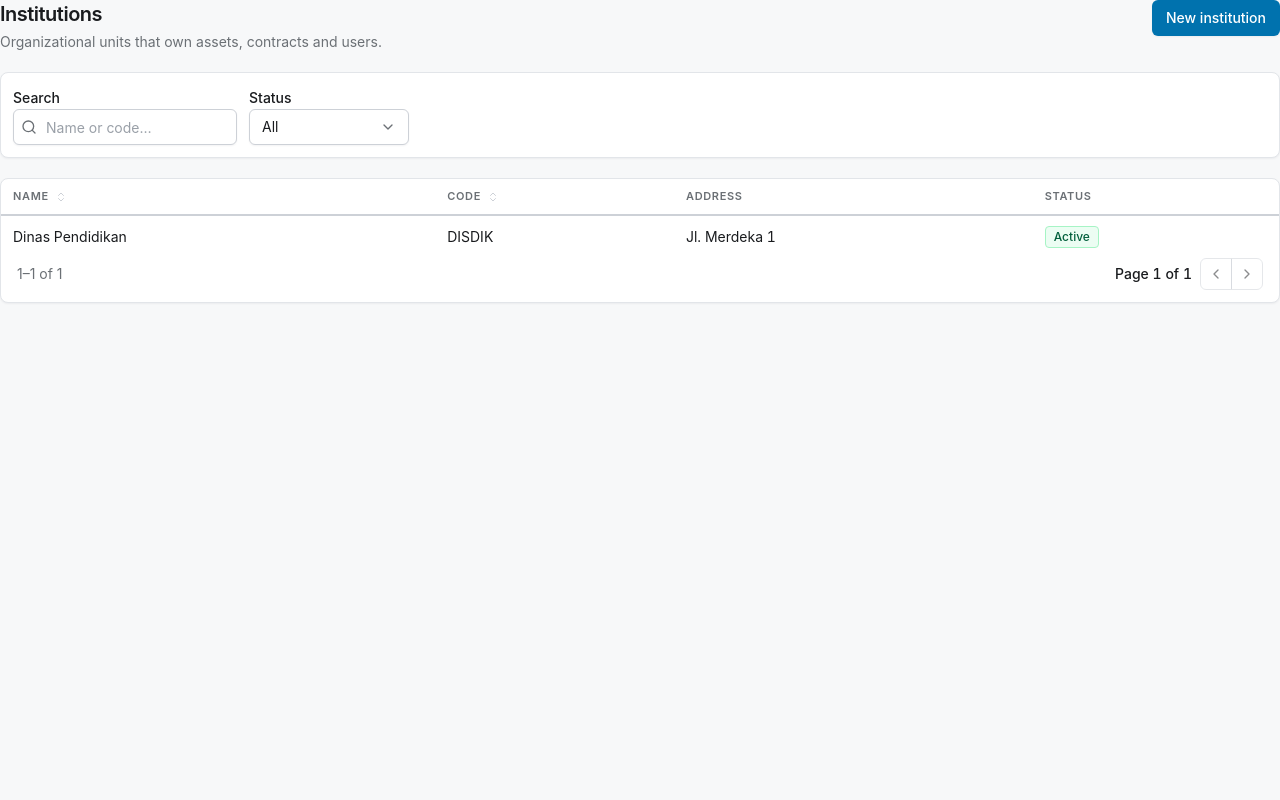
InstitutionsPage › maps a server VALIDATION_ERROR onto the offending field
Expected: the link "Dinas Pendidikan" is shown, [13, 228, 127, 245]
Click the button "New institution". click: (1216, 18)
box: [1152, 0, 1279, 36]
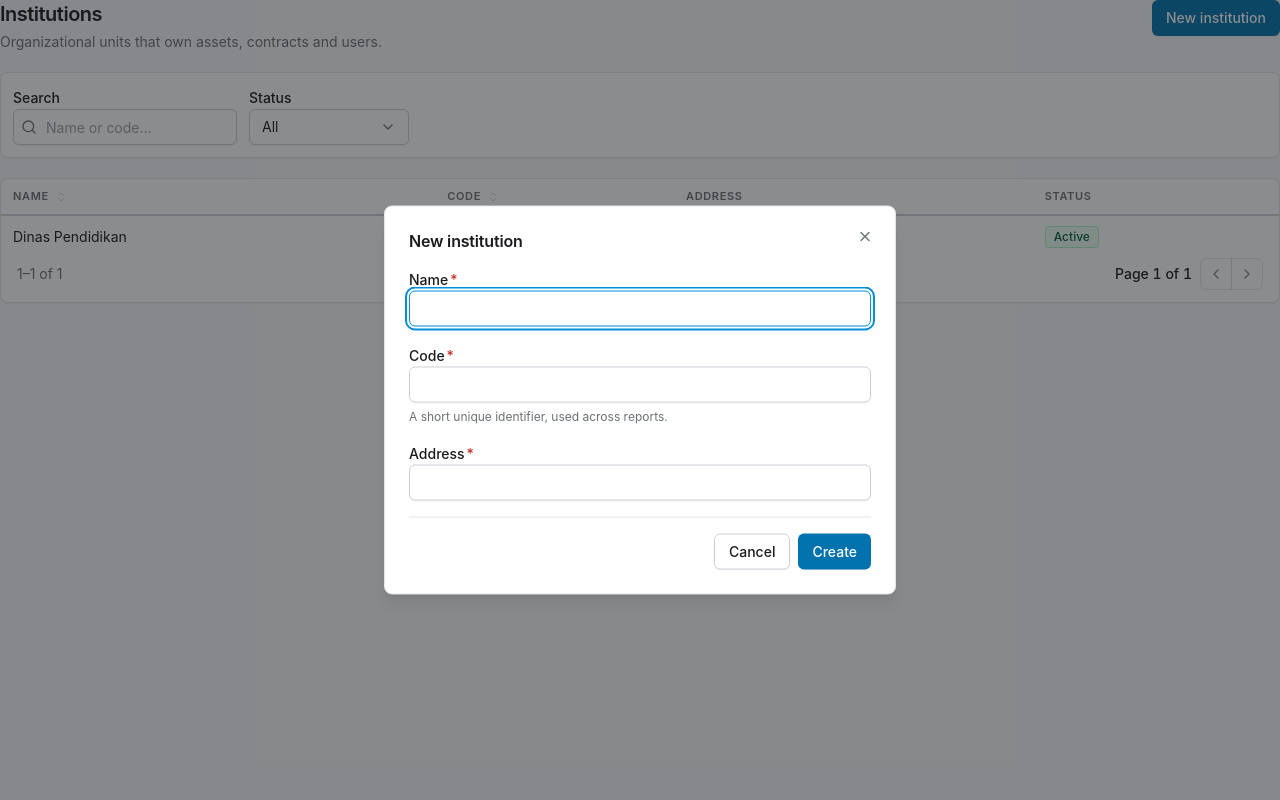
Type "Baru" into the field labelled "Name*". click: (640, 308)
box: [409, 290, 871, 326]
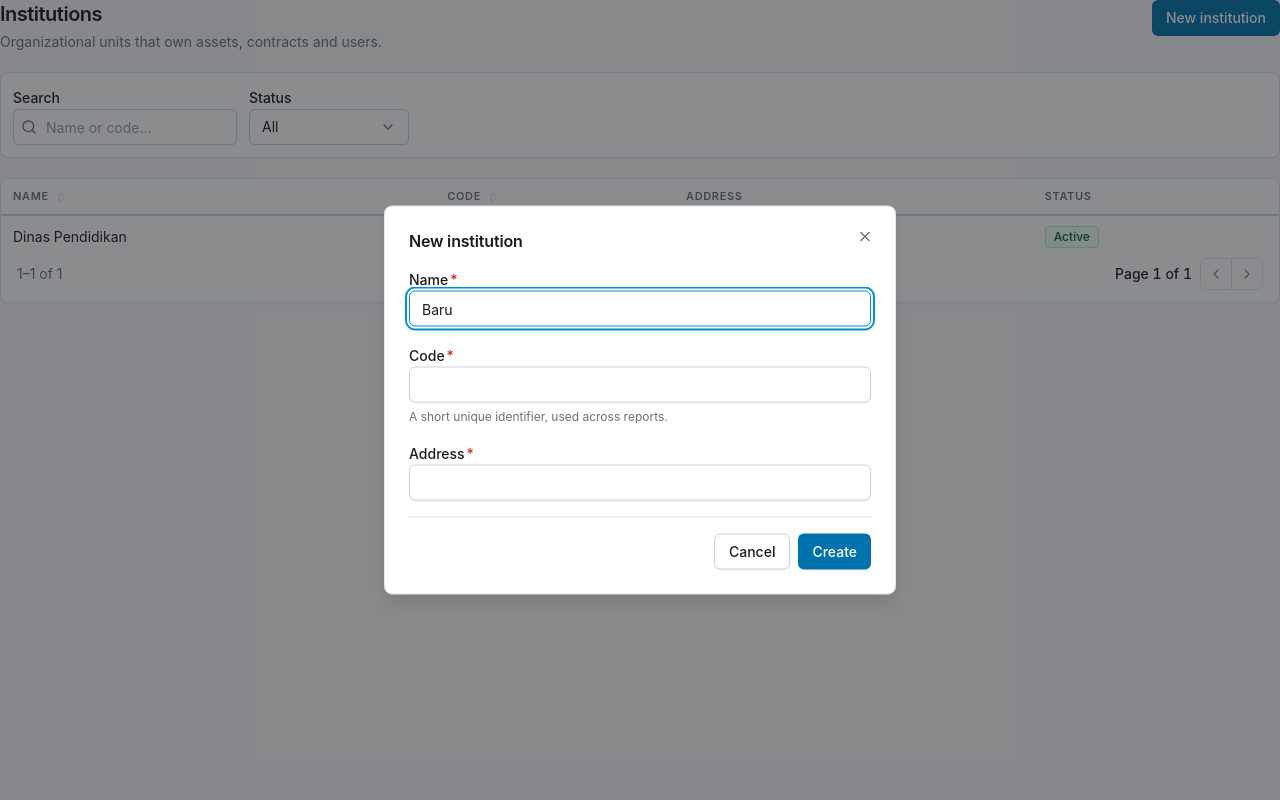
Type "DUP" into the field labelled "Code*". click: (640, 384)
box: [409, 366, 871, 402]
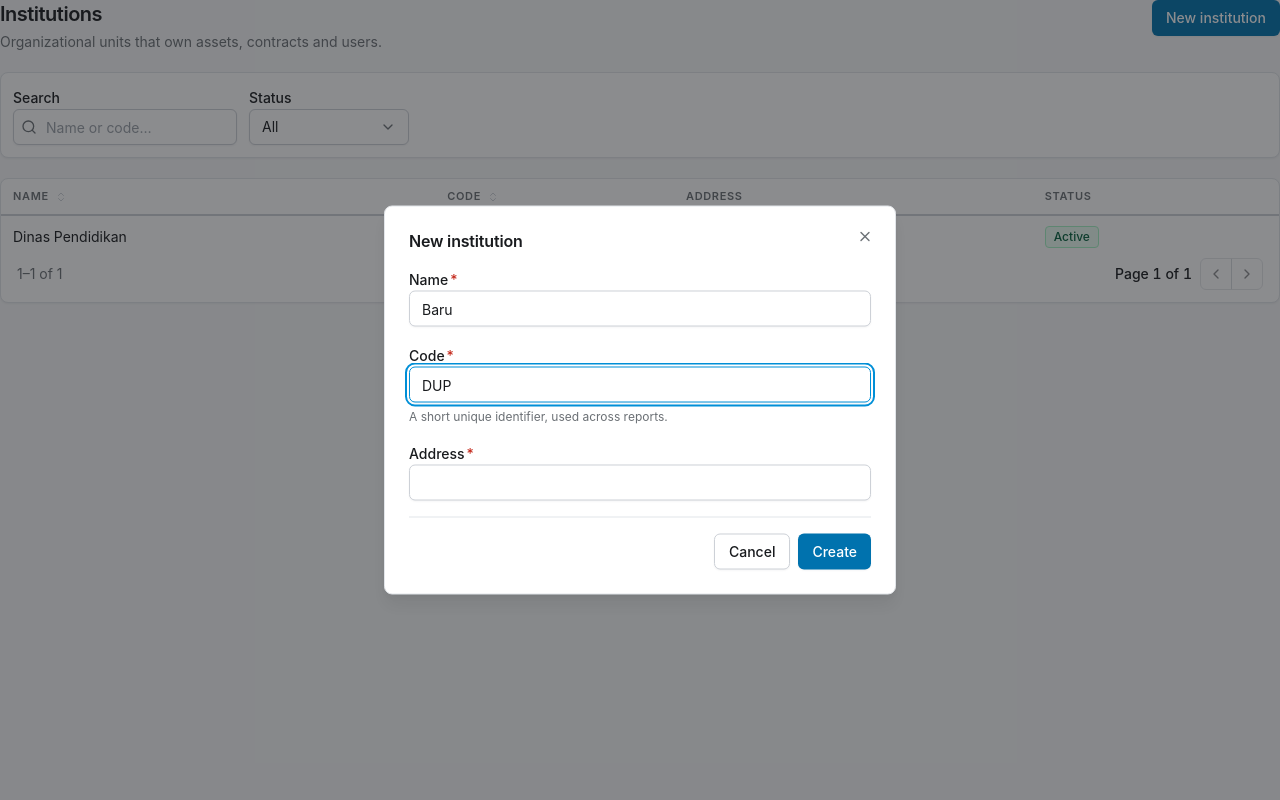
Type "Jl. Baru" into the field labelled "Address*". click: (640, 482)
box: [409, 464, 871, 500]
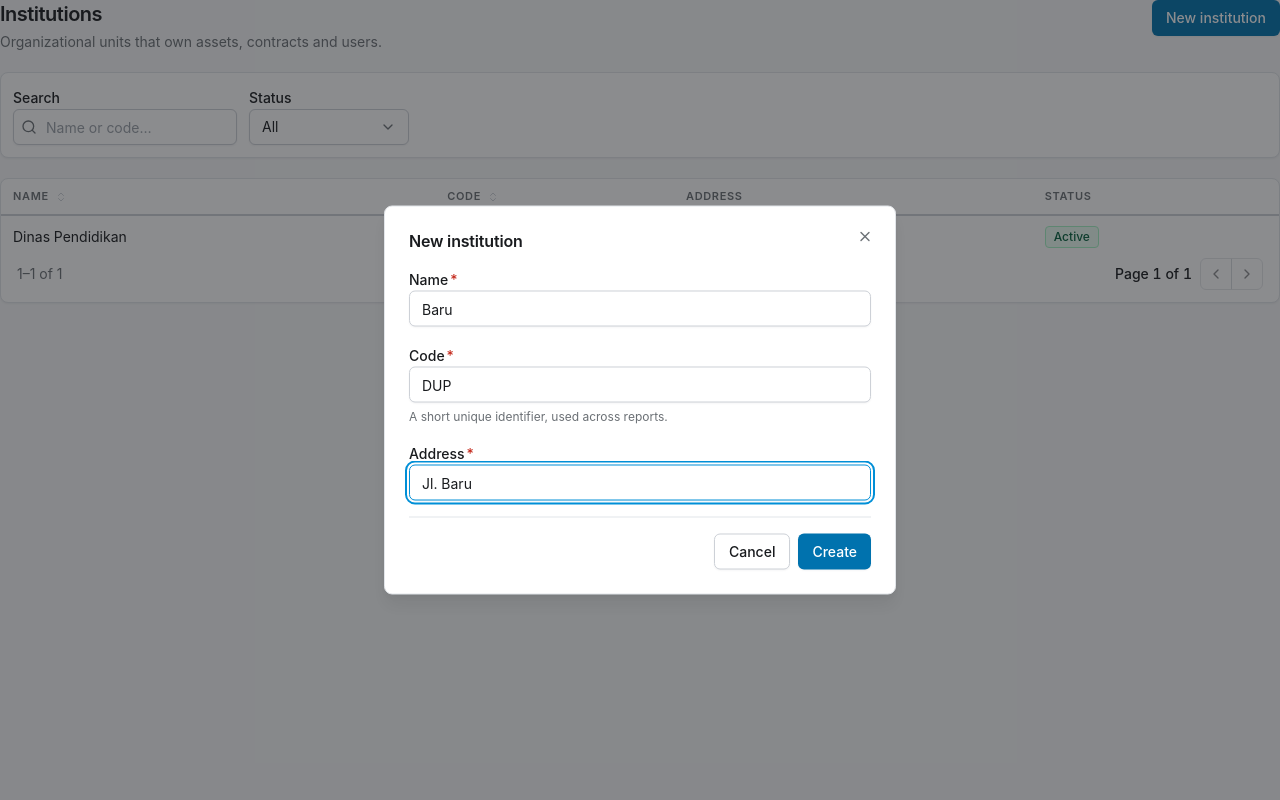
Click the button "Create". click: (835, 552)
box: [798, 534, 871, 570]
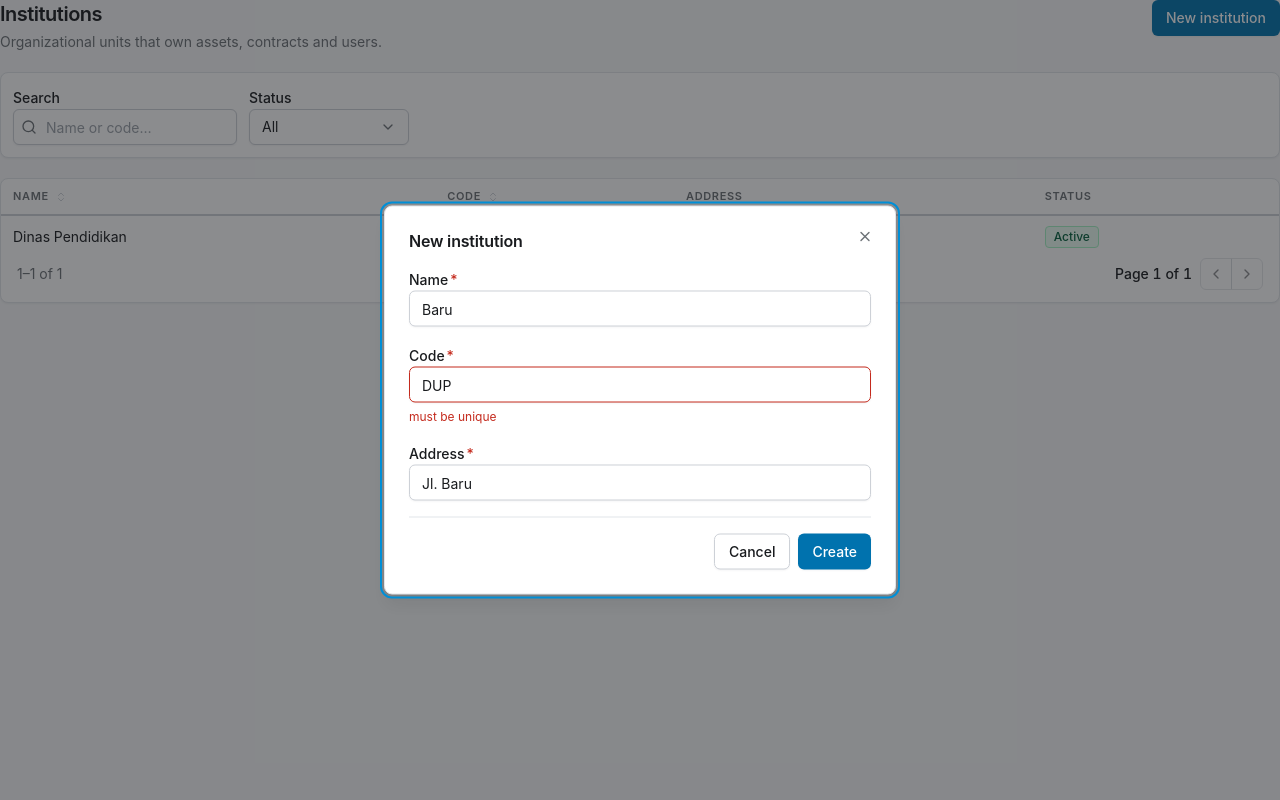
Expected: the dialog is shown, [384, 206, 896, 594]
Expected: the text "must be unique" is shown, [409, 408, 496, 424]
